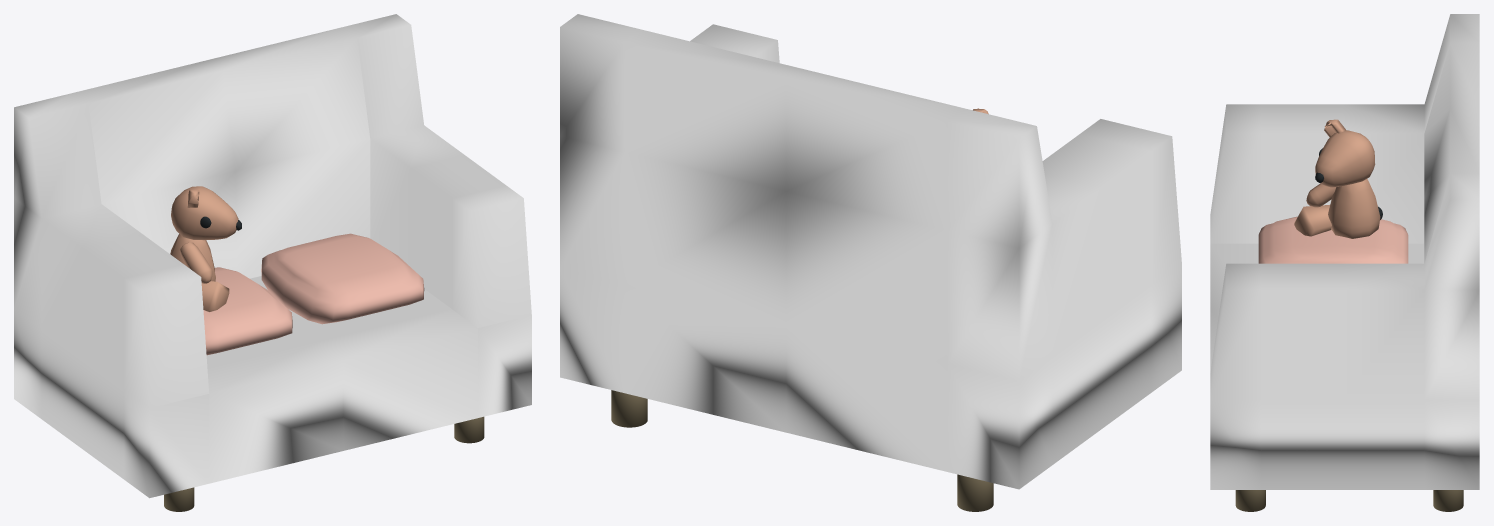
The model's file is bearWithSofa.gltf.
The picture shows the model from 3 angles, left to right: view 1: azimuth 30°, elevation 25°; view 2: azimuth 150°, elevation 25°; view 3: azimuth 270°, elevation 25°; orthographic projection. The views are drawn at different scales.
Parts seen in each view (by area): view 1: 立方体.006, 立方体.008, 立方体.007, 立方体, 立方体.005, 円柱.003, 立方体.004, 円柱, 立方体.003; view 2: 立方体.006, 円柱.002, 円柱.001; view 3: 立方体.006, 立方体.007, 立方体, 立方体.003, 立方体.004, 円柱.002, 円柱.003, 立方体.005.
Boxes of the visible parts, x1=… form: 立方体.006: x1=14, y1=14, x2=531, y2=498; 立方体.008: x1=261, y1=233, x2=424, y2=324; 立方体.007: x1=203, y1=267, x2=292, y2=355; 立方体: x1=171, y1=186, x2=238, y2=240; 立方体.005: x1=179, y1=242, x2=212, y2=283; 円柱.003: x1=454, y1=416, x2=484, y2=443; 立方体.004: x1=201, y1=281, x2=229, y2=311; 円柱: x1=164, y1=487, x2=194, y2=511; 立方体.003: x1=170, y1=233, x2=215, y2=281; 立方体.006: x1=560, y1=14, x2=1181, y2=489; 円柱.002: x1=611, y1=390, x2=647, y2=427; 円柱.001: x1=957, y1=474, x2=993, y2=511; 立方体.006: x1=1210, y1=14, x2=1479, y2=489; 立方体.007: x1=1258, y1=216, x2=1408, y2=263; 立方体: x1=1315, y1=130, x2=1375, y2=187; 立方体.003: x1=1328, y1=179, x2=1380, y2=238; 立方体.004: x1=1294, y1=205, x2=1331, y2=236; 円柱.002: x1=1433, y1=490, x2=1463, y2=511; 円柱.003: x1=1235, y1=490, x2=1265, y2=511; 立方体.005: x1=1306, y1=183, x2=1336, y2=207.
Bounding box in the file's own units: 3.1 × 2.54 × 1.9.
